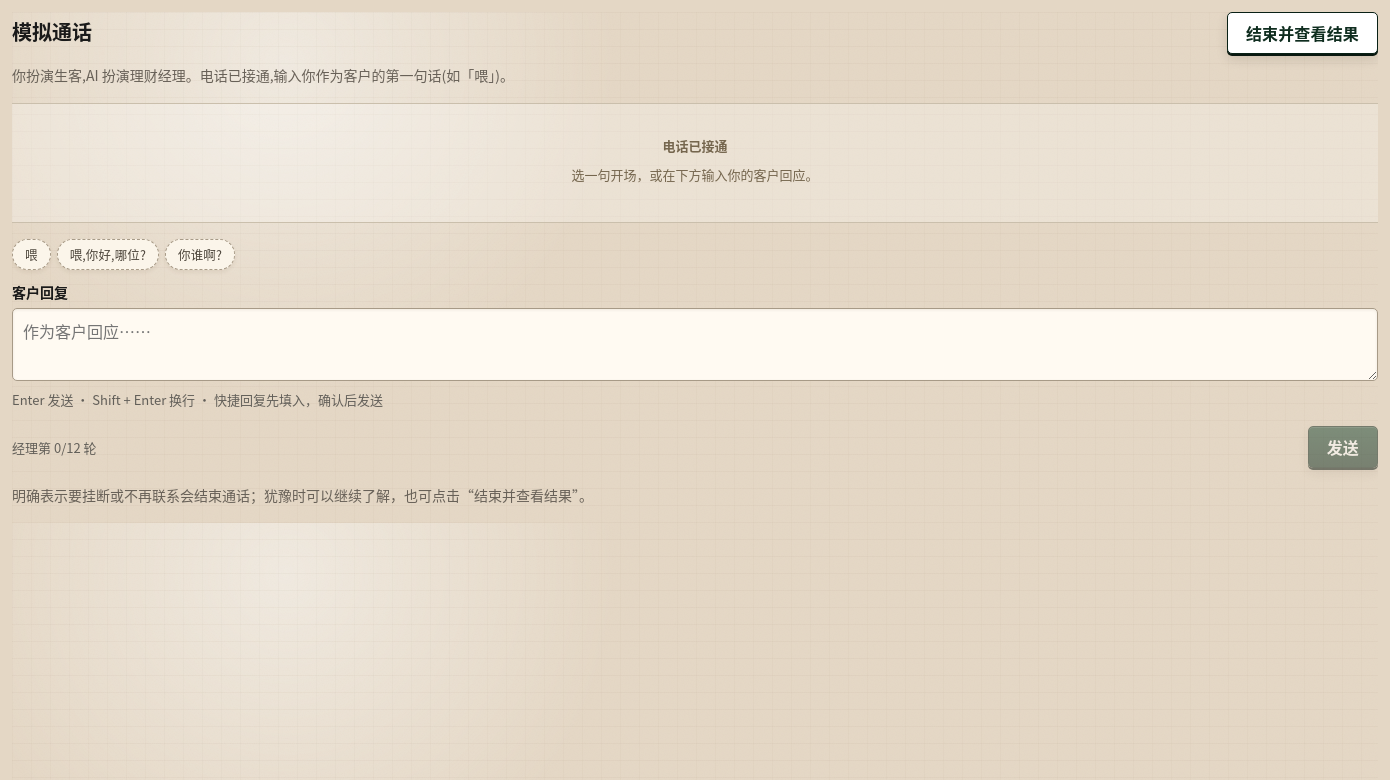
Test: 对话步骤的反馈 › 请求成功后用服务端会话替换乐观状态
Type "喂" into the text box labelled "客户回复". click: [695, 345]
box: [12, 308, 1378, 381]
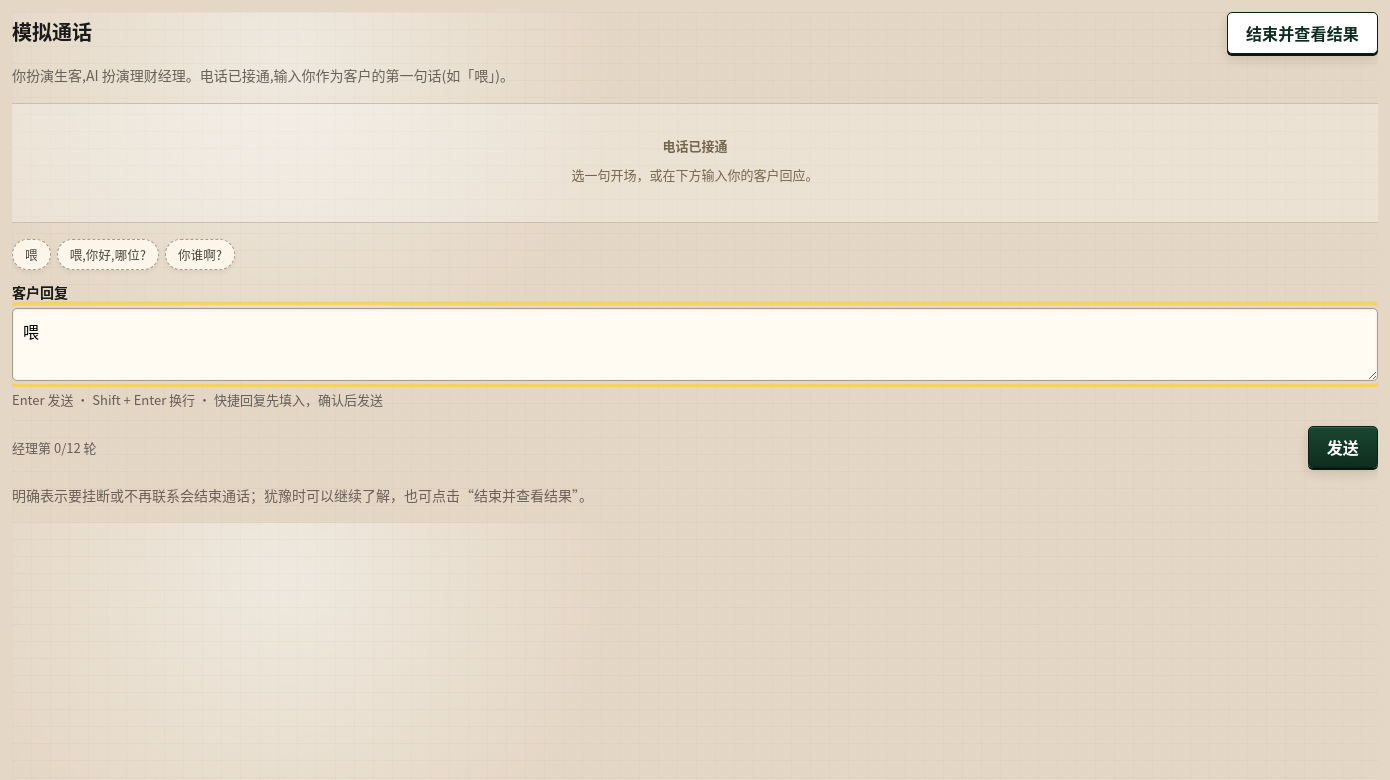
Click the button "发送". click: [1343, 447]
box: [1308, 426, 1378, 468]
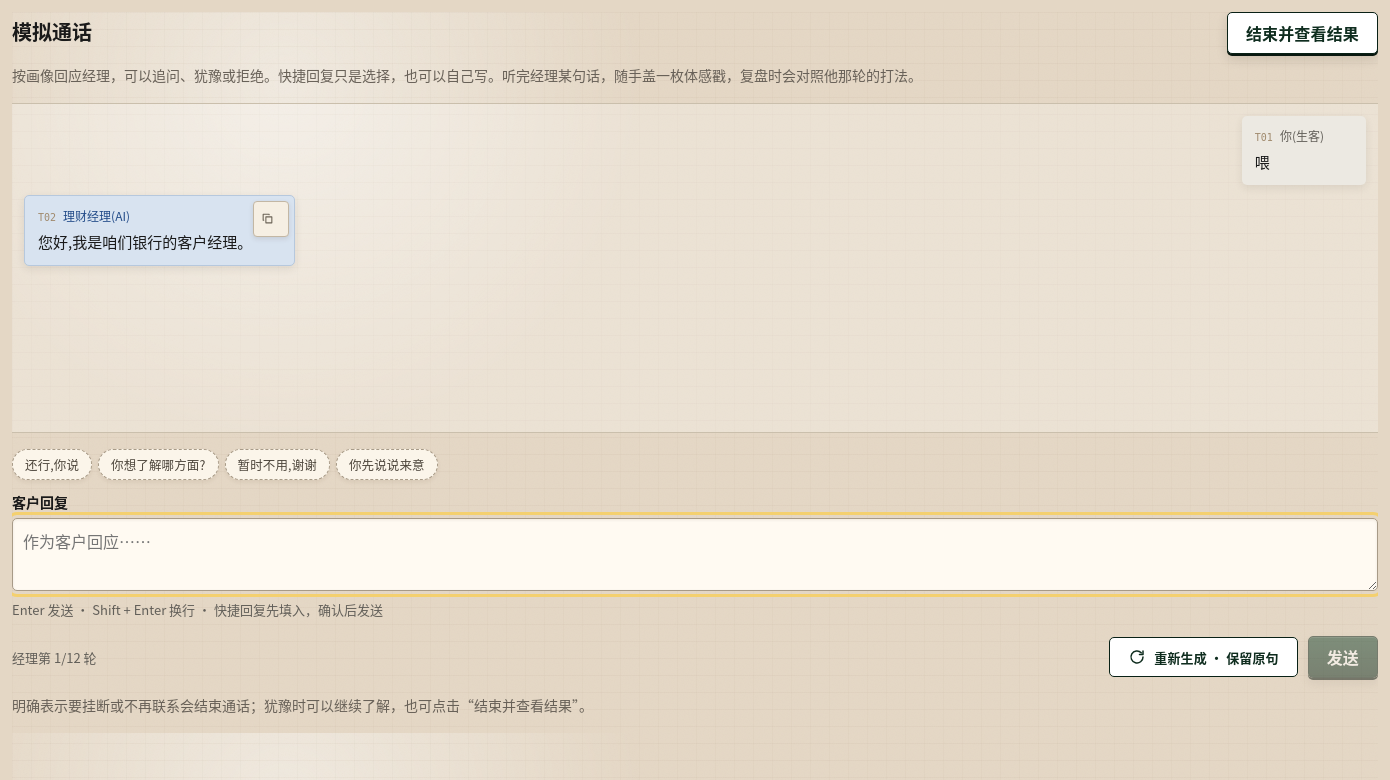
Check: the text "您好,我是咱们银行的客户经理。" is shown, box [38, 229, 252, 255]
